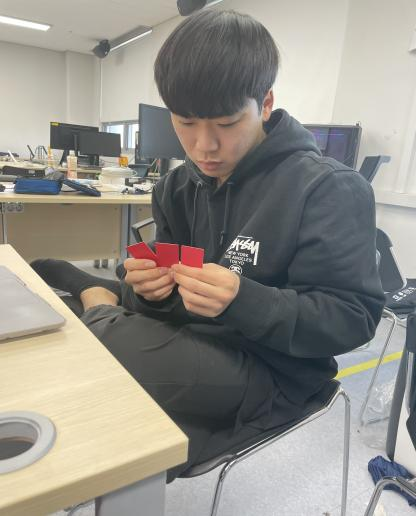ThreeHwatoo: (111, 224, 212, 282)
